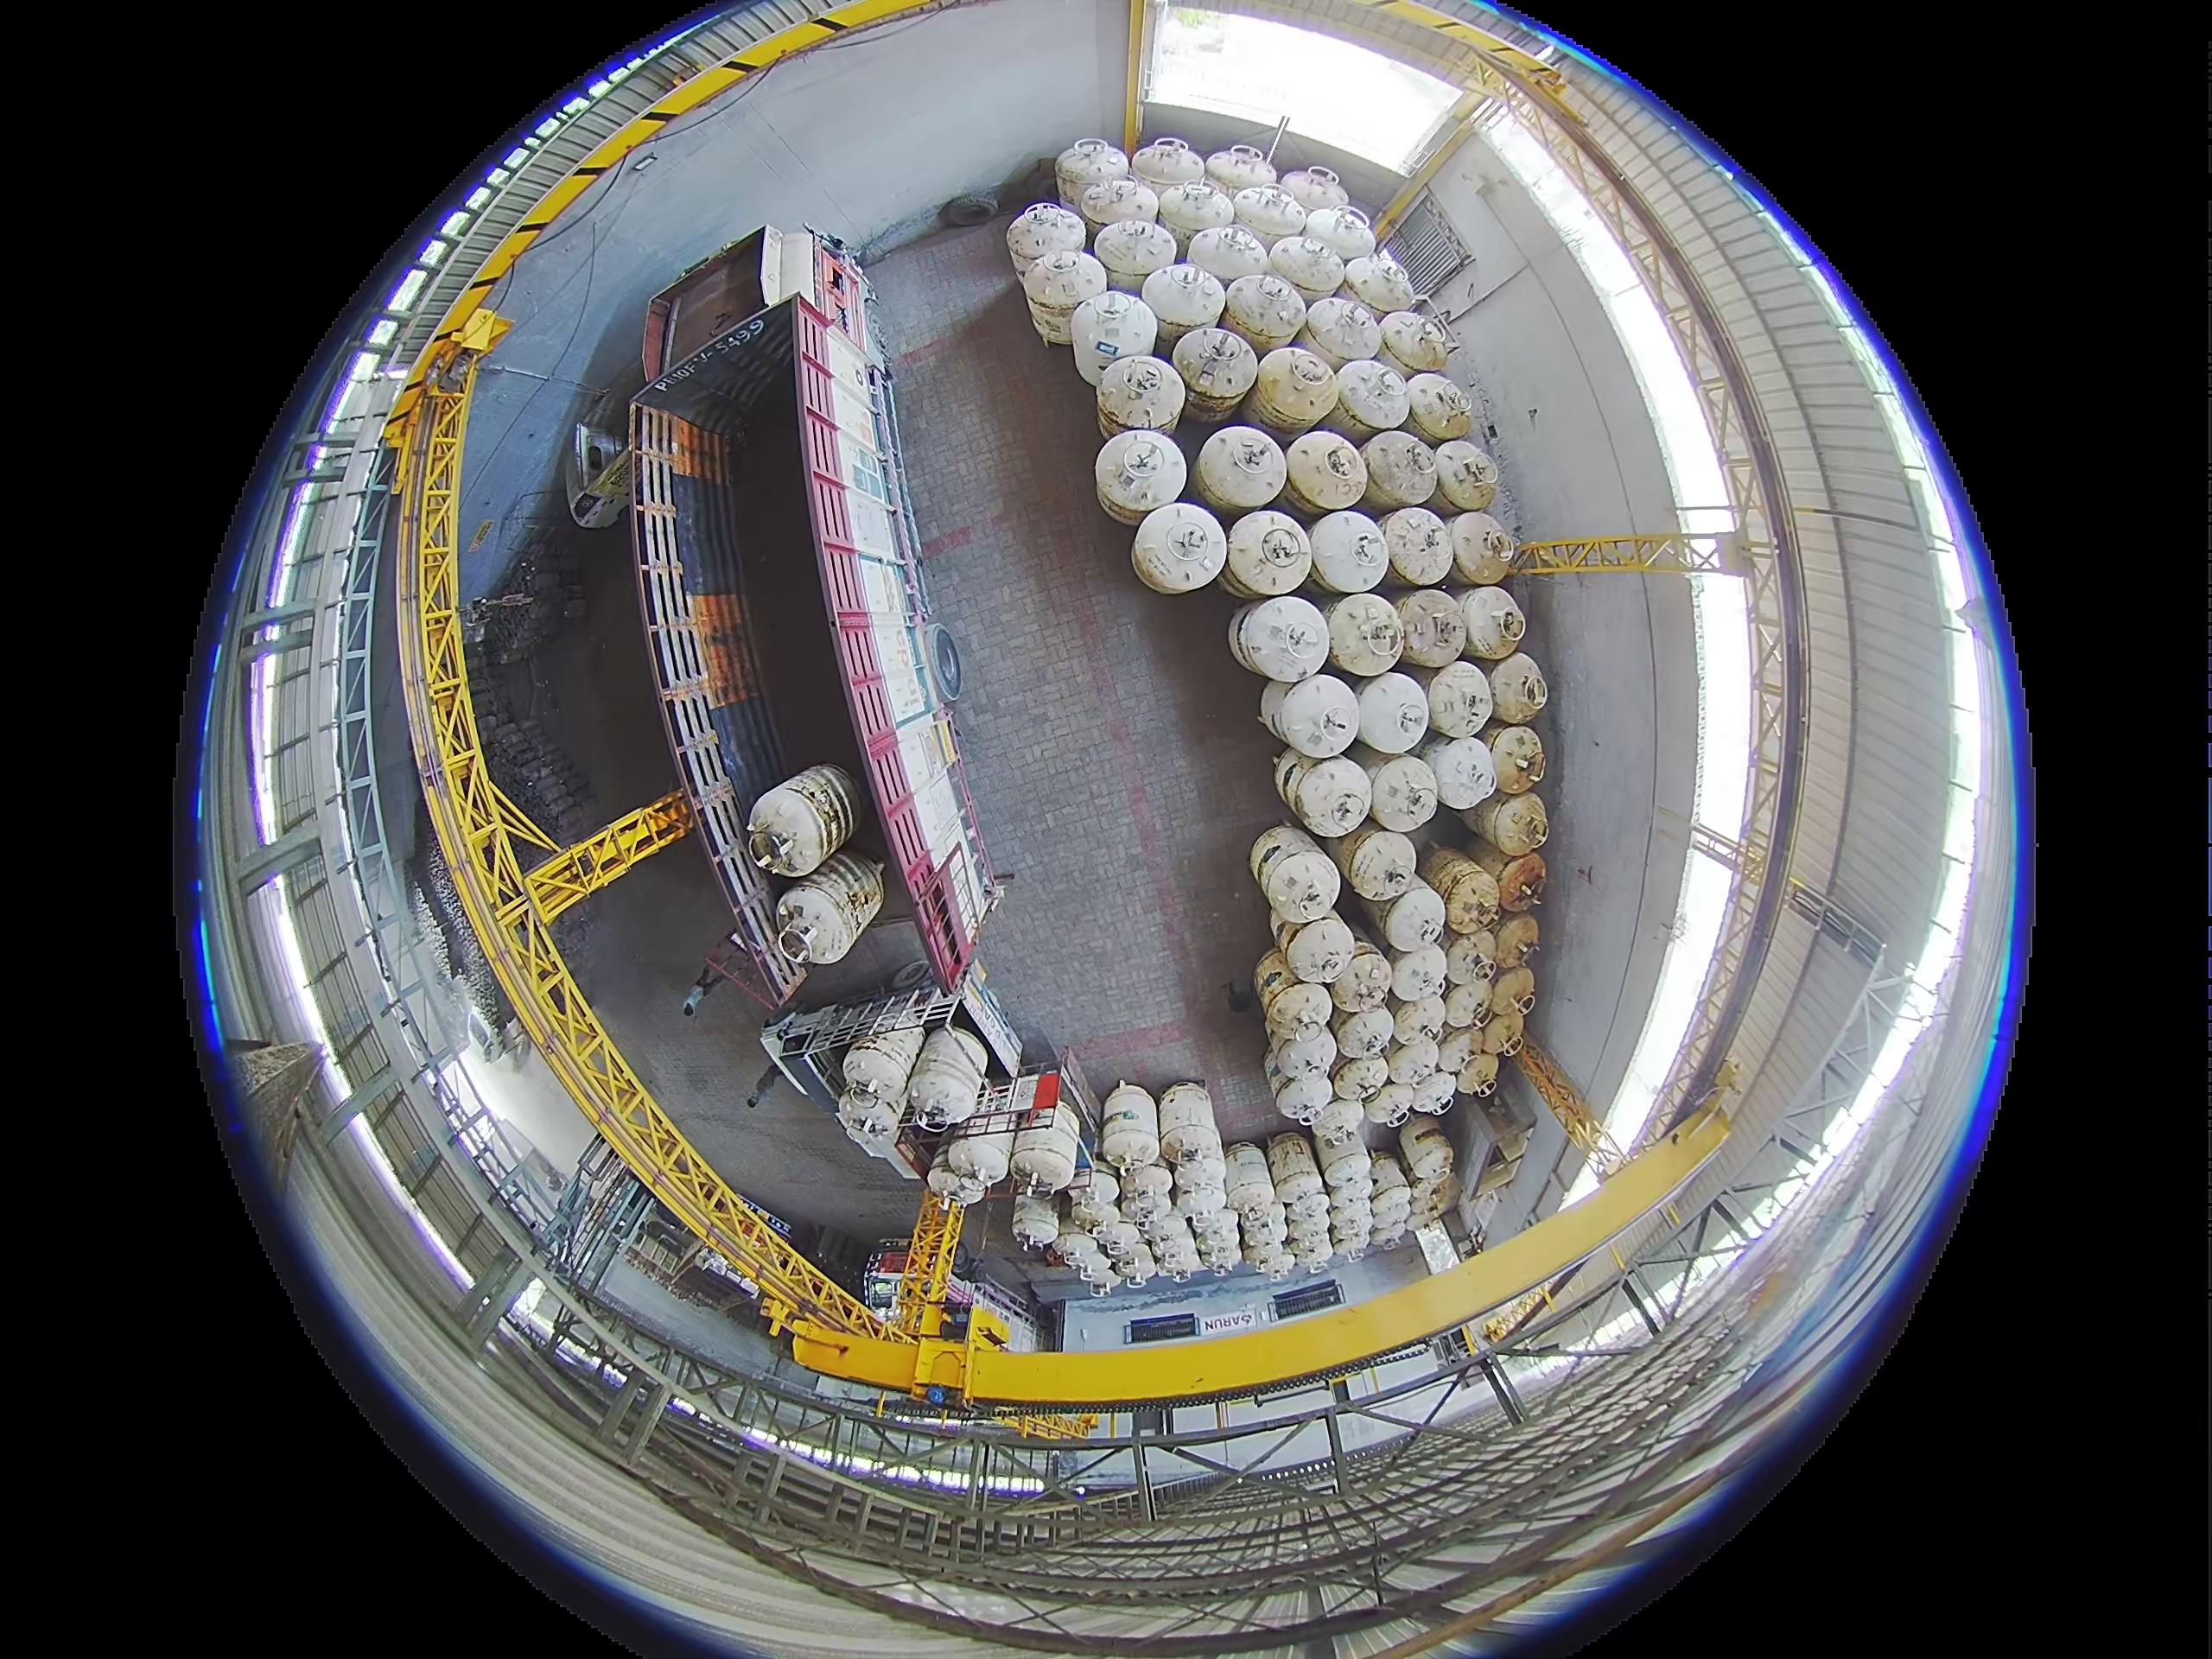cylinder: (775, 843, 892, 965), (744, 762, 860, 878), (1132, 500, 1231, 606), (907, 1026, 989, 1133), (1094, 430, 1184, 526), (1096, 355, 1183, 453), (1270, 671, 1362, 762), (1251, 347, 1341, 439), (1235, 594, 1329, 683), (1197, 425, 1287, 516), (1170, 326, 1258, 418), (1251, 821, 1339, 910), (1224, 511, 1313, 598), (1015, 249, 1097, 342), (1306, 509, 1392, 596), (1284, 430, 1369, 518), (1008, 1101, 1085, 1197), (1069, 293, 1151, 382), (1141, 260, 1226, 343), (1285, 755, 1374, 835), (1324, 592, 1407, 676), (1221, 272, 1308, 352), (1334, 823, 1420, 903), (841, 1030, 921, 1114), (1362, 429, 1440, 514), (1353, 671, 1432, 755), (1332, 355, 1411, 436), (1282, 915, 1362, 992), (1381, 505, 1456, 586), (1423, 734, 1498, 814), (1303, 295, 1383, 369), (1423, 659, 1496, 741), (1188, 221, 1273, 291), (1366, 753, 1440, 831), (1393, 589, 1468, 667), (1421, 847, 1496, 925), (1157, 179, 1235, 253), (1096, 216, 1174, 286), (1055, 138, 1130, 209), (1007, 202, 1083, 272), (1158, 1080, 1221, 1164), (1458, 586, 1527, 660), (1400, 371, 1470, 446), (1078, 178, 1155, 246), (1449, 511, 1519, 584), (1379, 878, 1447, 951), (1235, 185, 1310, 251), (1301, 206, 1378, 270), (1266, 232, 1343, 296), (1129, 138, 1205, 202), (1433, 439, 1501, 511), (1101, 1082, 1160, 1164), (1480, 650, 1547, 723), (1378, 310, 1449, 376), (1482, 723, 1547, 796), (1341, 251, 1416, 314), (838, 1084, 906, 1152), (1264, 979, 1334, 1044), (944, 1131, 1014, 1195), (1486, 789, 1550, 857), (1329, 948, 1393, 1014), (1205, 143, 1278, 199), (1388, 946, 1451, 1009), (1332, 1006, 1397, 1066), (1270, 1068, 1334, 1127), (1270, 1028, 1334, 1087), (1442, 929, 1501, 993), (1278, 166, 1348, 218), (1385, 1035, 1444, 1096), (1397, 1119, 1454, 1182), (1331, 1053, 1392, 1108), (1266, 1134, 1320, 1197), (1271, 749, 1324, 814), (1146, 1218, 1200, 1279), (1494, 852, 1548, 913), (1312, 1096, 1369, 1152), (1258, 676, 1305, 742), (1228, 606, 1271, 678), (1066, 1166, 1120, 1223), (1224, 1154, 1277, 1213), (1254, 950, 1301, 1014), (1474, 1007, 1527, 1063), (1486, 964, 1536, 1023), (1442, 979, 1496, 1033), (1474, 1147, 1527, 1201), (1172, 1162, 1228, 1215), (1360, 1080, 1418, 1131), (1491, 913, 1541, 971), (1057, 1230, 1109, 1284), (1193, 1213, 1242, 1270), (1327, 1192, 1374, 1251), (927, 1162, 986, 1208), (1012, 1197, 1061, 1251), (1120, 1162, 1174, 1209), (1287, 1222, 1336, 1272), (1322, 1147, 1374, 1194), (1414, 1173, 1461, 1225), (1090, 1213, 1143, 1260), (1238, 1220, 1284, 1274), (1407, 1072, 1458, 1119), (1367, 1185, 1413, 1237), (1284, 1187, 1334, 1232), (1271, 911, 1317, 960), (1435, 1026, 1479, 1075), (1367, 1155, 1411, 1202), (1458, 1051, 1500, 1098), (1109, 1241, 1153, 1281)
truck: (658, 218, 993, 1000), (554, 408, 653, 544)
